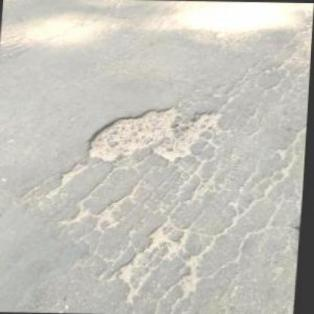Hueco: (86, 104, 225, 166)
